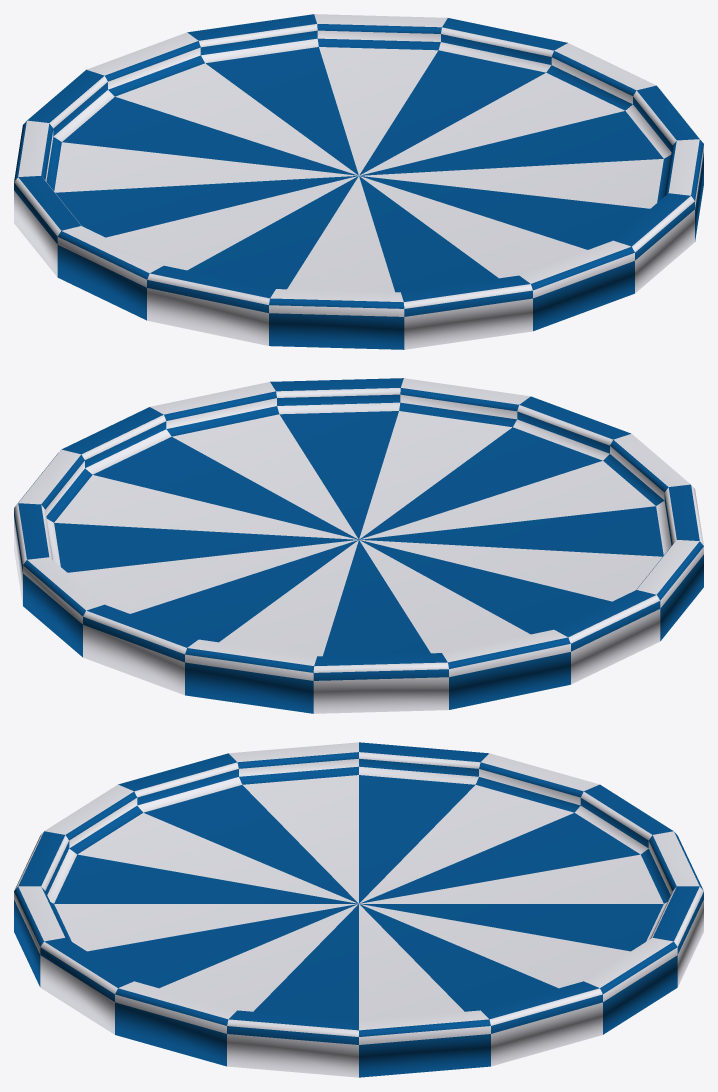
Rendered from AIR HOCKEY PUCK.fbx.
The picture shows the model from 3 angles, top to bottom: view 1: azimuth 30°, elevation 25°; view 2: azimuth 150°, elevation 25°; view 3: azimuth 270°, elevation 25°; orthographic projection.
Visible parts, largest first — view 1: Cylinder; view 2: Cylinder; view 3: Cylinder.
Part boxes in pixels (box(x1,y1,x2,y2)): Cylinder: box(14, 14, 703, 349); Cylinder: box(14, 378, 703, 713); Cylinder: box(14, 742, 703, 1077).
Bounding box in the file's own units: 767 × 55.83 × 767.
